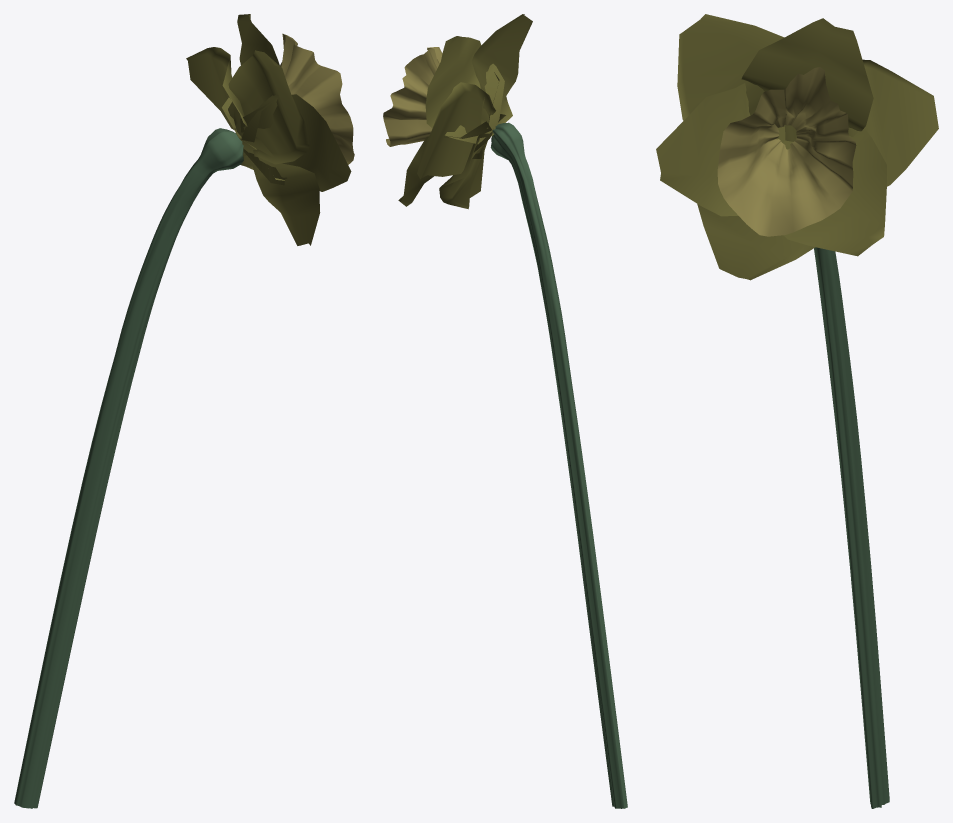
The model's file is Lily.fbx.
3 renders of one model, left to right at view 1: azimuth 30°, elevation 25°; view 2: azimuth 150°, elevation 25°; view 3: azimuth 270°, elevation 25°, orthographic. The views are drawn at different scales.
Parts seen in each view (by area): view 1: daffodil1Leaf; view 2: daffodil1Leaf; view 3: daffodil1Leaf.
Boxes of the visible parts, x1=… form: daffodil1Leaf: x1=14, y1=14, x2=354, y2=808; daffodil1Leaf: x1=383, y1=14, x2=627, y2=808; daffodil1Leaf: x1=656, y1=14, x2=938, y2=808.
Size of the model in its own units: 0.6502 by 1.63 by 0.4635.
